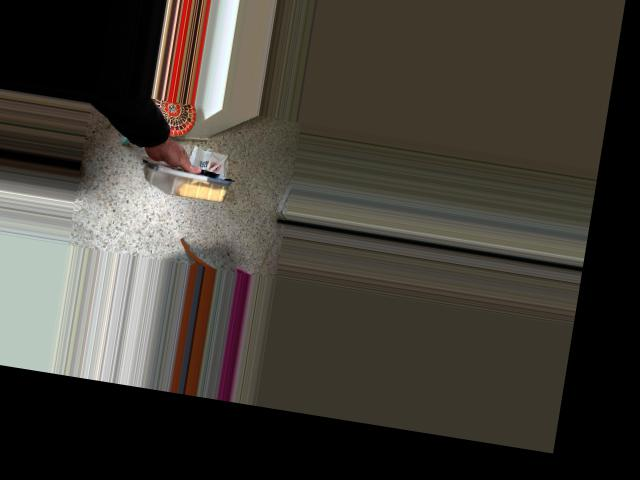cheese: (119, 116, 232, 226)
